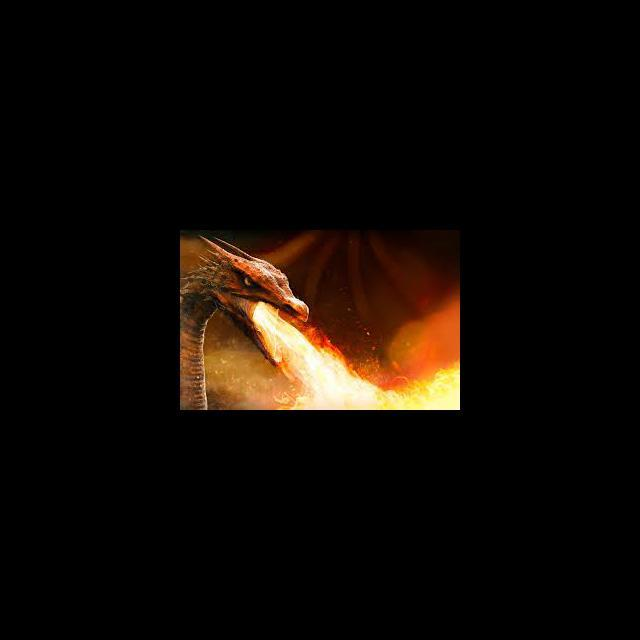Fire: (251, 300, 459, 409)
